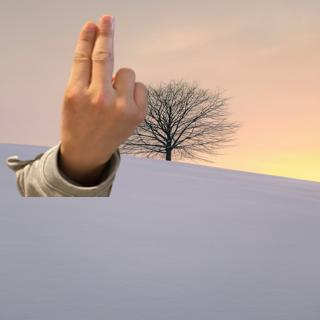DHAVE: (54, 12, 150, 168)
